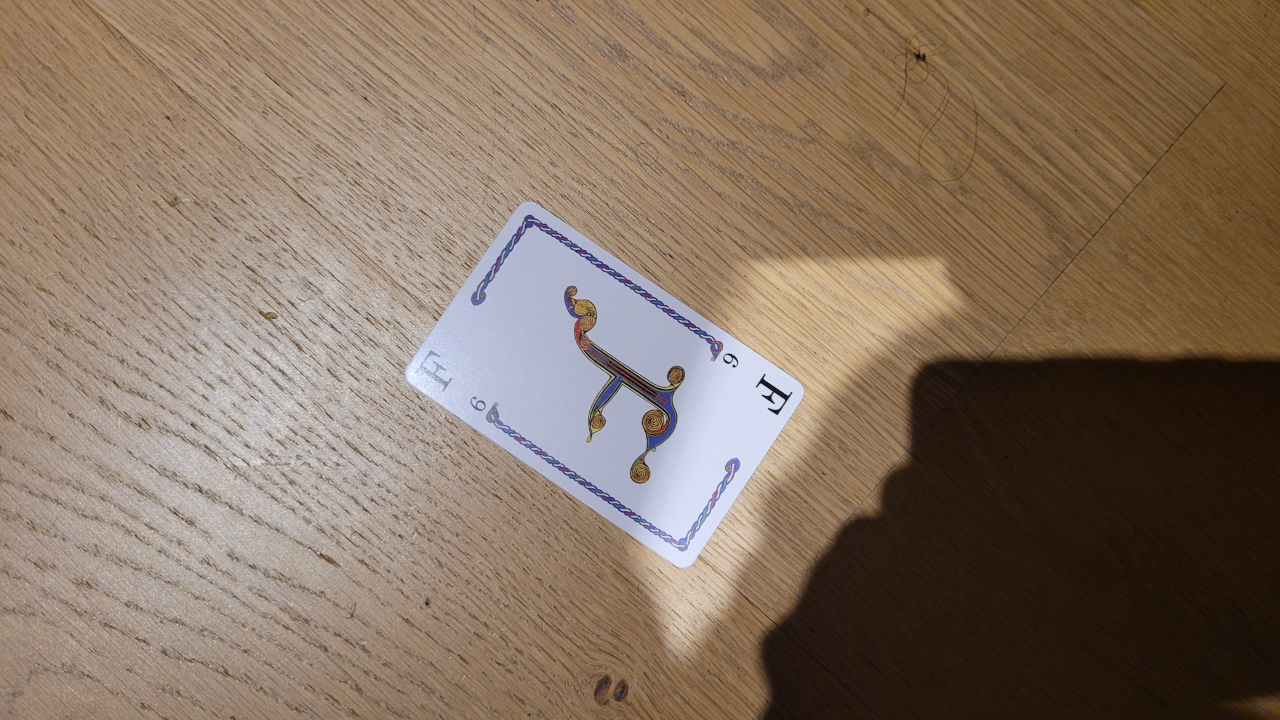quiddler_card: (397, 199, 817, 577)
